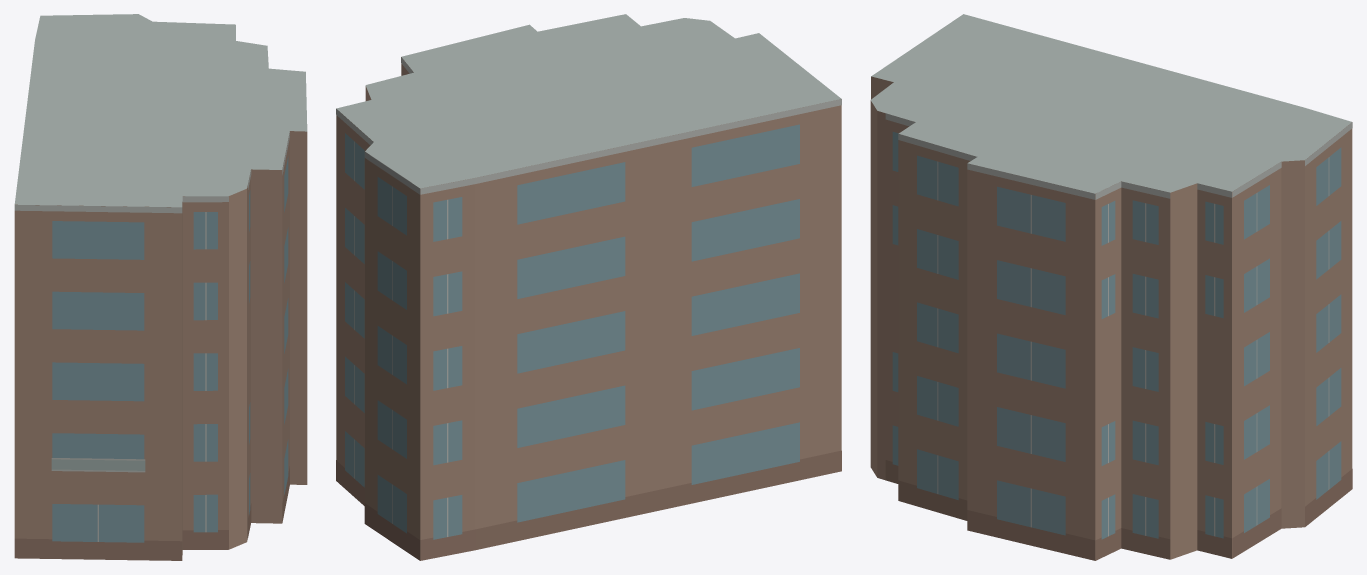
The model's file is survey-upis-32626925.glb.
3 renders of one model, left to right at view 1: azimuth 30°, elevation 25°; view 2: azimuth 150°, elevation 25°; view 3: azimuth 270°, elevation 25°, orthographic. The views are drawn at different scales.
Parts seen in each view (by area): view 1: survey-upis-32626925.tmp; view 2: survey-upis-32626925.tmp; view 3: survey-upis-32626925.tmp.
Boxes of the visible parts, <box> form: survey-upis-32626925.tmp: <box>14,14,307,560</box>; survey-upis-32626925.tmp: <box>336,14,841,560</box>; survey-upis-32626925.tmp: <box>870,14,1352,560</box>.
Bounding box in the file's own units: 15.13 × 14.4 × 17.14.
